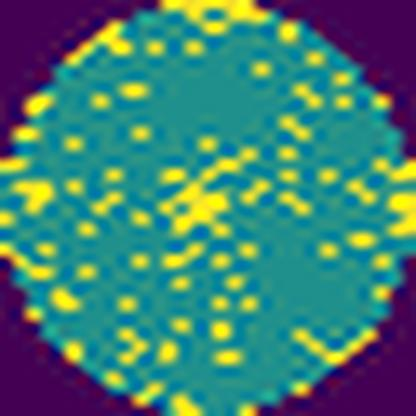Center: (152, 142, 260, 242)
